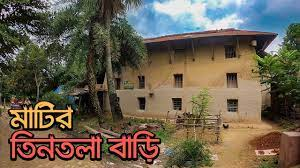Mud House: (103, 23, 277, 127)
